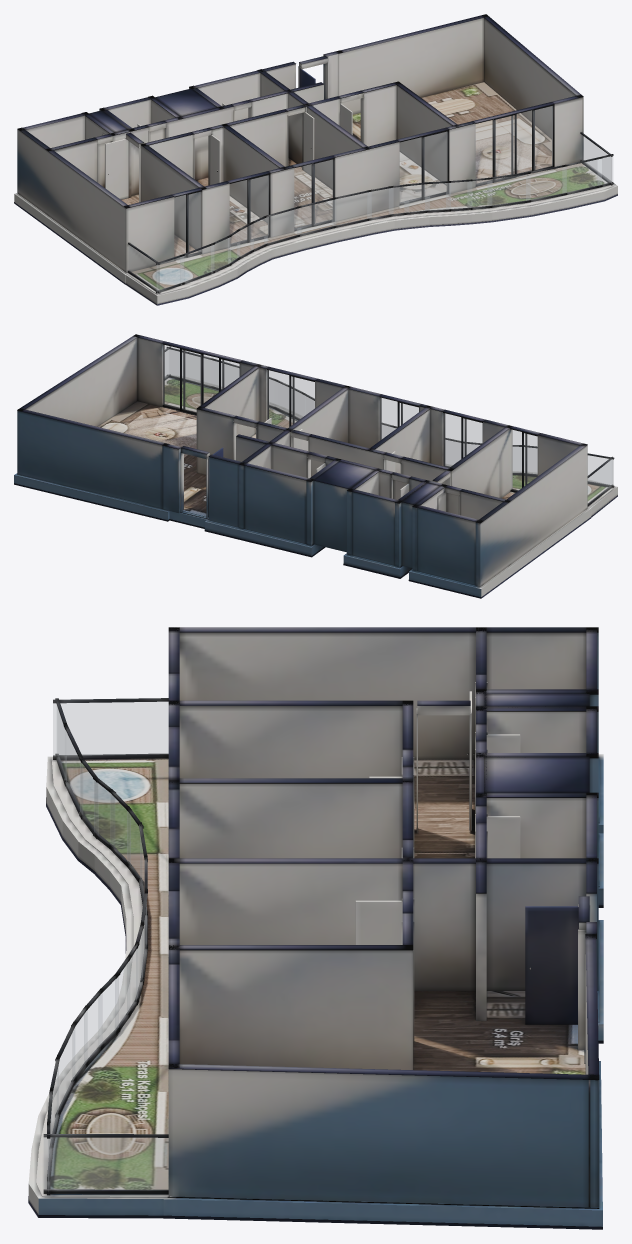
3 views of the same model, one above another, from view 1: azimuth 30°, elevation 25°; view 2: azimuth 150°, elevation 25°; view 3: azimuth 270°, elevation 25° (orthographic). The views are drawn at different scales.
Parts seen in each view (by area): view 1: plan, glass4_m, glass3_m, glass2_m, glass1_m, glass0_m, railg5_m, railg4_m, railg12_m, railg3_m, railg1_m, railg13_m (+14 smaller); view 2: plan, glass4_m, glass3_m, glass1_m, glass0_m, glass2_m, railg20_m, railg19_m, railg3_m; view 3: plan, railg0_m, railg20_m, railg16_m, railg15_m, railg8_m, railg7_m, railg17_m, railg18_m, railg5_m, railg6_m.
Part boxes in pixels (box(x1,y1,x2,y2)): plan: box(14, 14, 617, 305); glass4_m: box(476, 106, 552, 184); glass3_m: box(400, 132, 447, 202); glass2_m: box(294, 160, 332, 228); glass1_m: box(230, 175, 268, 243); glass0_m: box(174, 192, 200, 256); railg5_m: box(487, 174, 530, 205); railg4_m: box(526, 166, 566, 200); railg12_m: box(332, 192, 371, 225); railg3_m: box(562, 159, 601, 193); railg1_m: box(297, 199, 335, 234); railg13_m: box(264, 208, 301, 243); plan: box(14, 334, 617, 598); glass4_m: box(163, 345, 239, 412); glass3_m: box(267, 370, 314, 427); glass1_m: box(444, 413, 482, 467); glass0_m: box(511, 430, 537, 490); glass2_m: box(380, 398, 418, 439); railg20_m: box(588, 460, 612, 503); railg19_m: box(588, 455, 613, 485); railg3_m: box(182, 353, 211, 385); plan: box(28, 627, 603, 1229); railg0_m: box(44, 1137, 168, 1190); railg20_m: box(53, 702, 168, 755); railg16_m: box(94, 780, 114, 847); railg15_m: box(110, 794, 130, 864); railg8_m: box(98, 976, 118, 1046); railg7_m: box(84, 993, 102, 1064); railg17_m: box(80, 761, 98, 834); railg18_m: box(65, 730, 82, 814); railg5_m: box(57, 1029, 74, 1112); railg6_m: box(72, 1011, 87, 1079).
Bounding box in the file's own units: 17.29 × 2.62 × 9.22.
2 materials, 1 textured.
